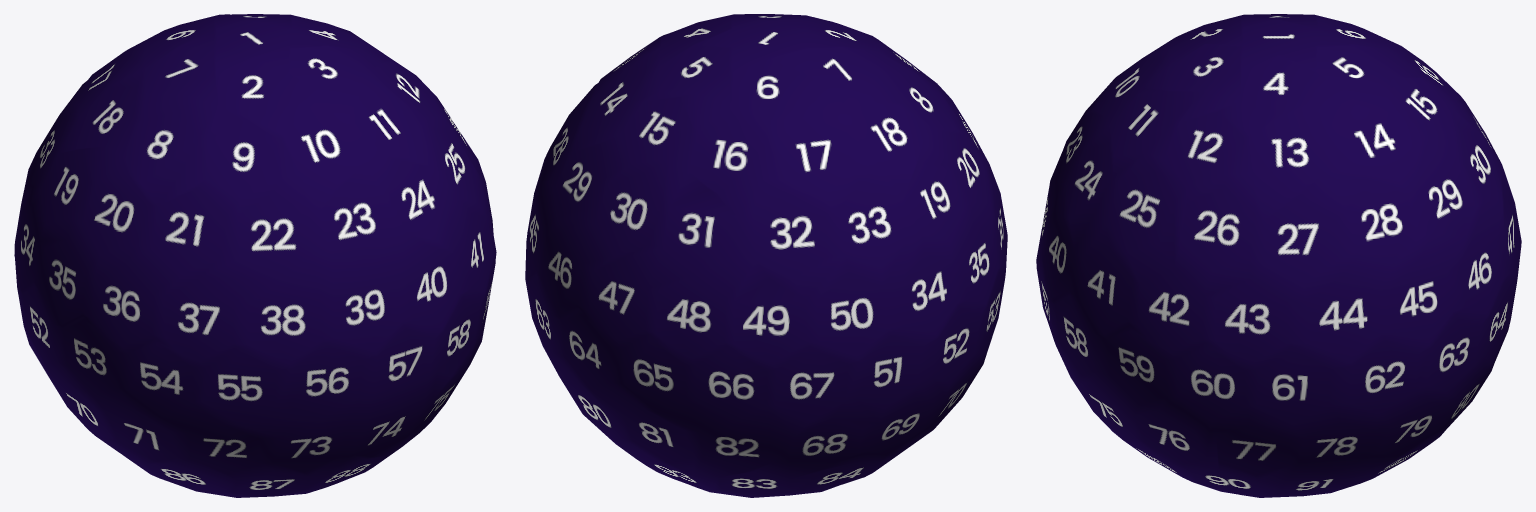
3 views of the same model, side by side, from view 1: azimuth 30°, elevation 25°; view 2: azimuth 150°, elevation 25°; view 3: azimuth 270°, elevation 25° (orthographic).
Parts seen in each view (by area): view 1: sides1_pCylinder48; view 2: sides1_pCylinder48; view 3: sides1_pCylinder48.
Part boxes in pixels (bbox=[...]): sides1_pCylinder48: bbox=[14, 14, 496, 497]; sides1_pCylinder48: bbox=[525, 14, 1007, 497]; sides1_pCylinder48: bbox=[1036, 14, 1521, 497].
Bounding box in the file's own units: 3.05 × 3.05 × 3.08.
1 material, 1 textured.
